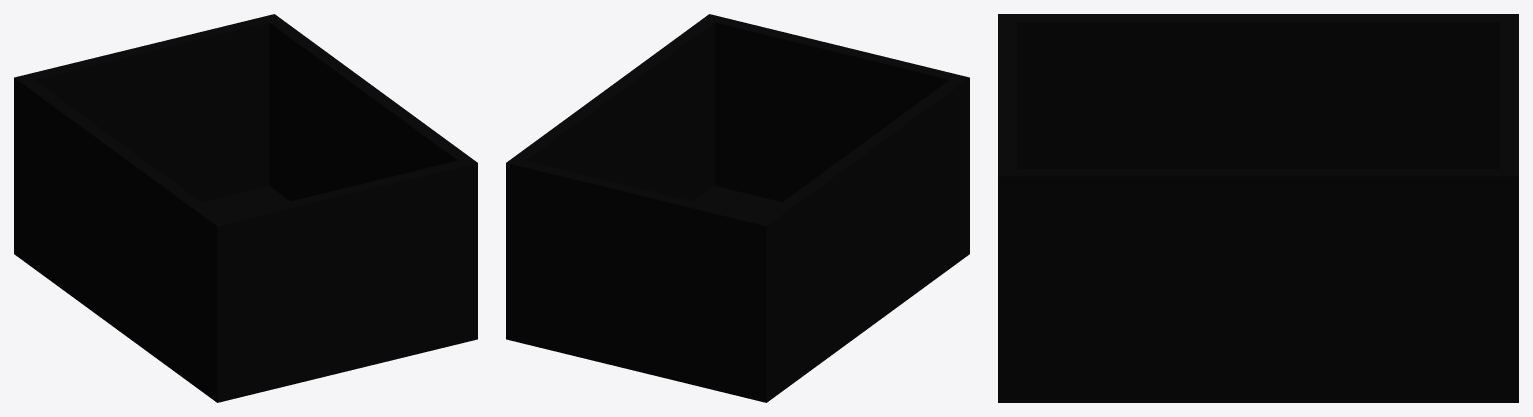
The picture shows the model from 3 angles, left to right: view 1: azimuth 30°, elevation 25°; view 2: azimuth 150°, elevation 25°; view 3: azimuth 270°, elevation 25°; orthographic projection. The views are drawn at different scales.
Visible parts, largest first — view 1: Box_412x557x267; view 2: Box_412x557x267; view 3: Box_412x557x267.
Part boxes in pixels (x1,y1,x2,y2): Box_412x557x267: (14, 14, 477, 402); Box_412x557x267: (506, 14, 969, 402); Box_412x557x267: (998, 14, 1518, 402).
Bounding box in the file's own units: 0.412 × 0.267 × 0.557.
Materials: 1 (1 with a texture image).
